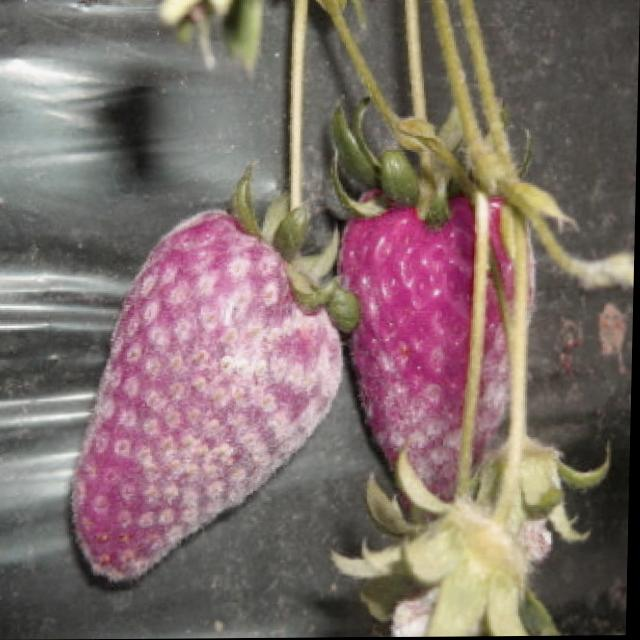Powdery Mildew Fruit: (70, 210, 350, 582), (334, 158, 537, 529)
